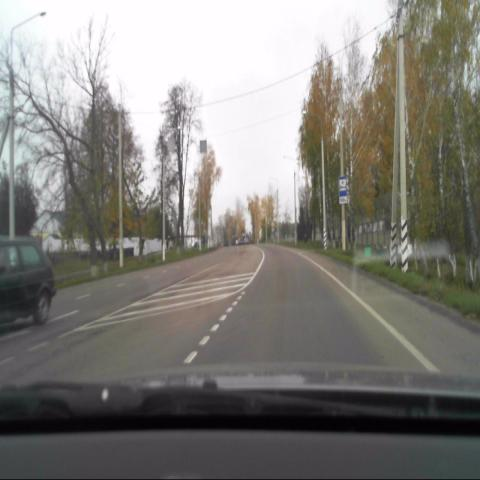7_2: (338, 176, 348, 204)
